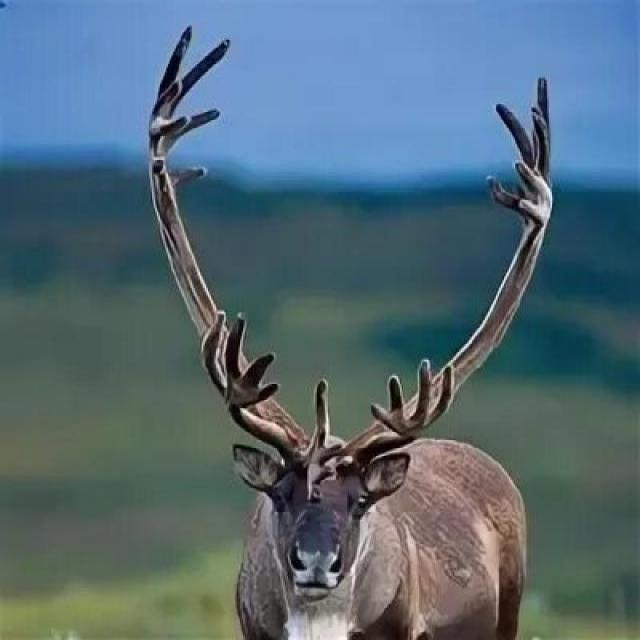deer: (105, 94, 640, 640)
